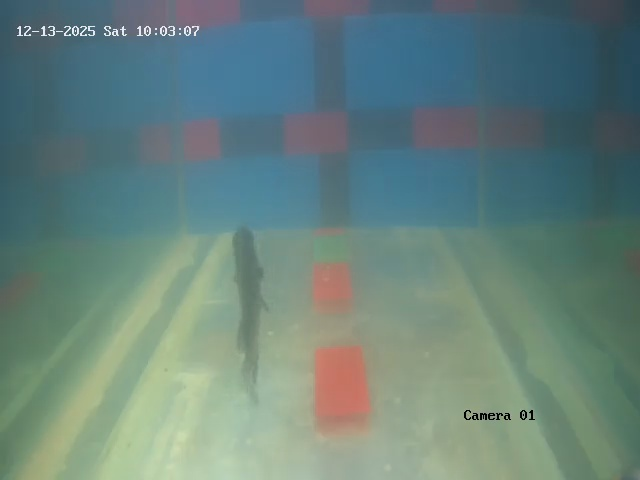fish: (227, 223, 274, 349)
